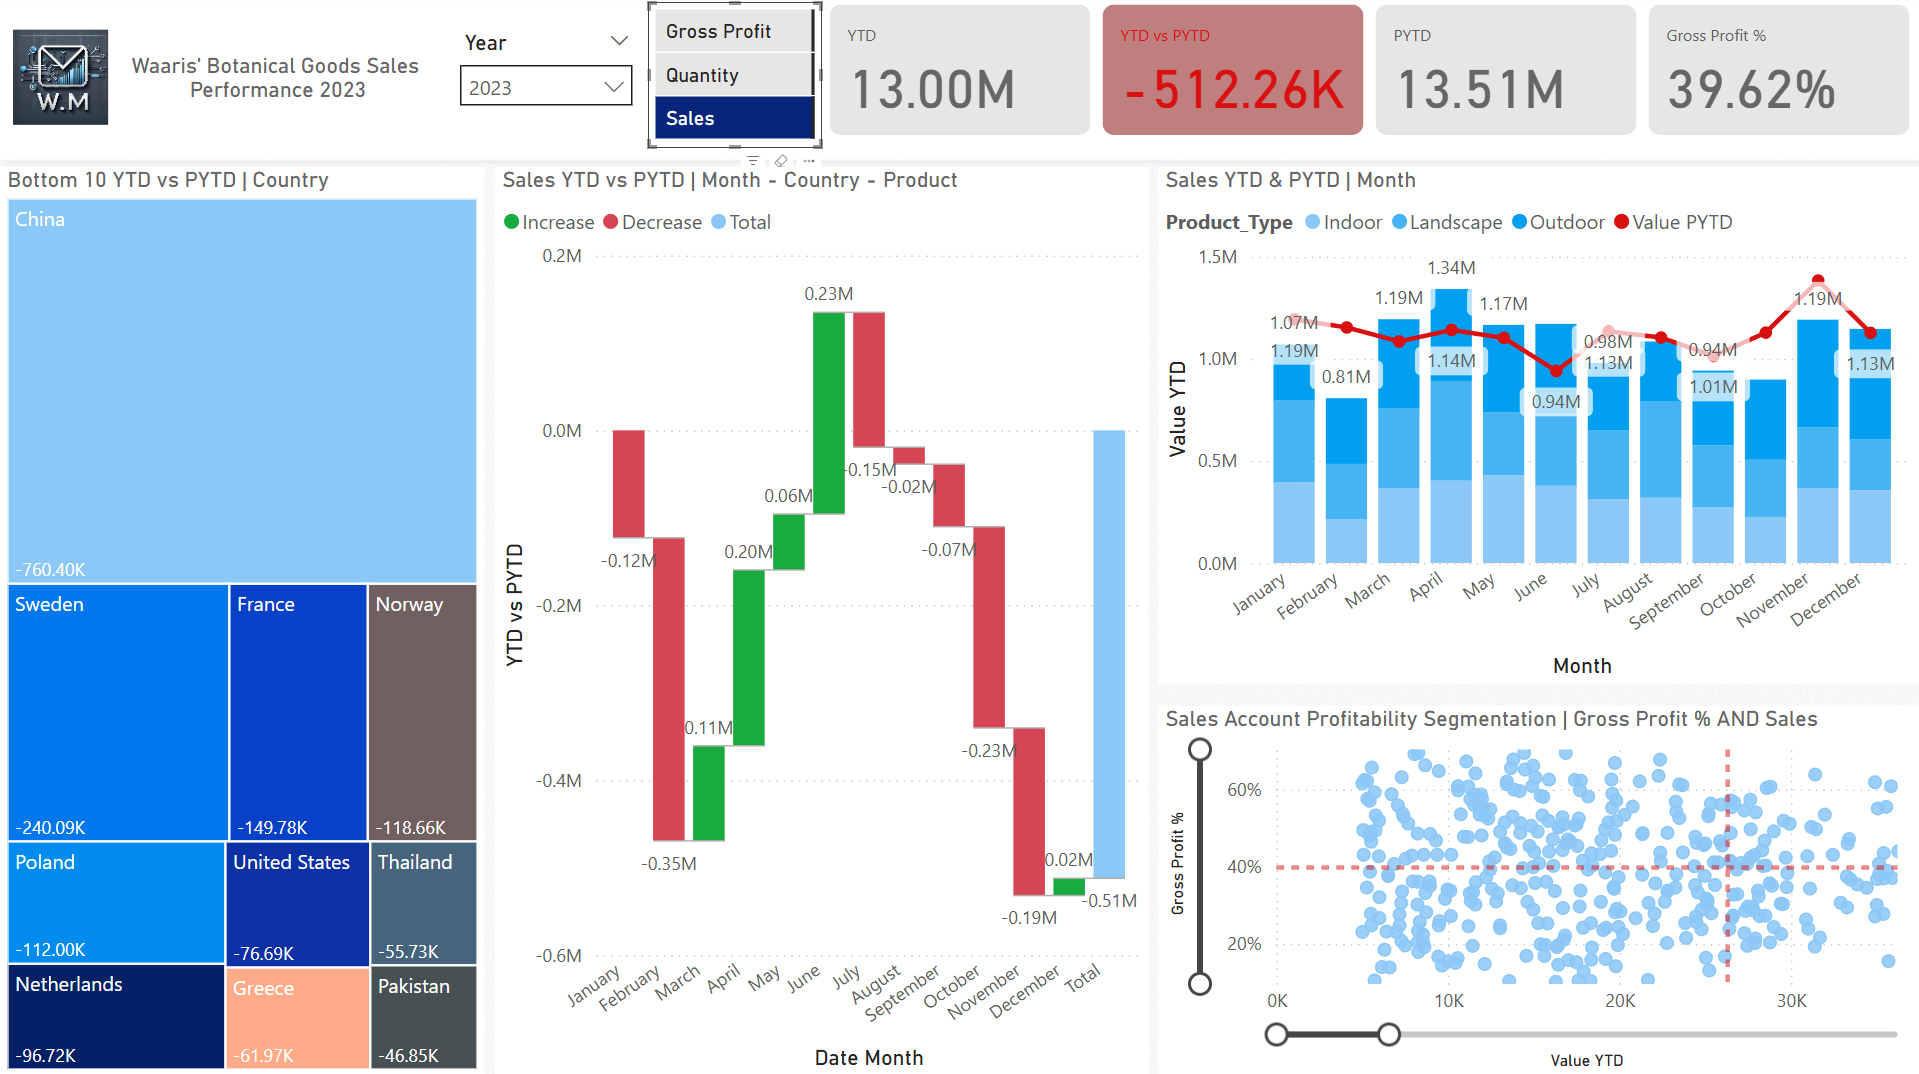

This screenshot's page, from the dashboard's own definition file:
{"tool":"powerbi","page":{"name":"Report","canvas":[1280,720],"ordinal":0},"visuals":[{"type":"cardVisual","fields":{"Data":["_Measures.S_YTD","_Measures.YTD vs PYTD","_Measures.S_PYTD","_Measures.GP%"]},"box":[548,0,732,97.3],"z":0},{"type":"advancedSlicerVisual","fields":{"Values":["Sic_Values.Values"]},"box":[432,3.3,116,97.3],"z":1000},{"type":"slicer","fields":{"Values":["Dim_Date.Date.Variation.Date Hierarchy.Year"]},"box":[296.7,17.3,135.3,69.3],"z":2000},{"type":"treemap","title":"Bottom 10 YTD vs PYTD | Country","fields":{"Values":["_Measures.YTD vs PYTD"],"Group":["Dim_Account.country"]},"box":[0,113.3,323.3,606.7],"z":3000},{"type":"waterfallChart","fields":{"Y":["_Measures.YTD vs PYTD"],"Category":["Dim_Date.Date.Variation.Date Hierarchy.Month","Dim_Account.country","Dim_Product.Produt_Type","Dim_Product.Product_Name"]},"box":[330,113.3,436,606.7],"z":4000},{"type":"lineStackedColumnComboChart","fields":{"Y":["_Measures.S_YTD"],"Y2":["_Measures.S_PYTD"],"Category":["Dim_Date.Date.Variation.Date Hierarchy.Quarter","Dim_Date.Date.Variation.Date Hierarchy.Month"],"Series":["Dim_Product.Produt_Type"]},"box":[772,113.3,508,345.3],"z":5000},{"type":"scatterChart","fields":{"X":["_Measures.S_YTD"],"Y":["_Measures.GP%"],"Category":["Dim_Account.Account"]},"box":[772,472.7,508,247.3],"z":6000},{"type":"card","fields":{"Values":["_Measures._Report Title"]},"box":[74,8.7,222.7,92],"z":7000}]}

Visuals, with their boxes in screenshot pixels (x1, y1, x2, y2), scaled from the page's 1280x720 canvas onto the 1919x1074 screenshot:
cardVisual - _Measures.S_YTD x _Measures.YTD vs PYTD: (x1=822, y1=0, x2=1918, y2=145)
advancedSlicerVisual - Sic_Values.Values: (x1=648, y1=5, x2=822, y2=150)
slicer - Dim_Date.Date.Variation.Date Hierarchy.Year: (x1=445, y1=26, x2=648, y2=129)
"Bottom 10 YTD vs PYTD | Country" treemap: (x1=0, y1=169, x2=485, y2=1073)
waterfallChart - _Measures.YTD vs PYTD x Dim_Date.Date.Variation.Date Hierarchy.Month: (x1=495, y1=169, x2=1148, y2=1073)
lineStackedColumnComboChart - _Measures.S_YTD x _Measures.S_PYTD: (x1=1157, y1=169, x2=1918, y2=684)
scatterChart - _Measures.S_YTD x _Measures.GP%: (x1=1157, y1=705, x2=1918, y2=1073)
card - _Measures._Report Title: (x1=111, y1=13, x2=445, y2=150)
